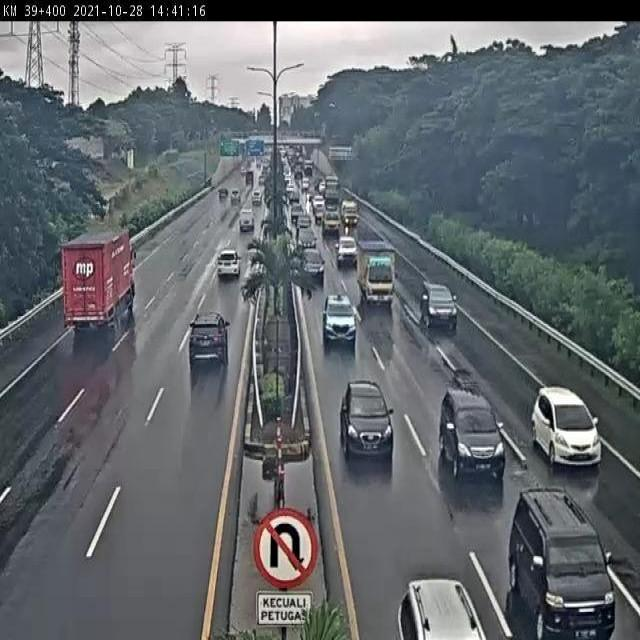car: (507, 488, 618, 640), (439, 386, 508, 478), (530, 385, 602, 468), (338, 382, 394, 462), (187, 310, 228, 366), (421, 281, 460, 331), (323, 294, 358, 346), (300, 248, 325, 284), (217, 250, 241, 278), (336, 236, 356, 264)
mid truck: (60, 227, 136, 332)
truck-m-: (357, 240, 396, 305)
